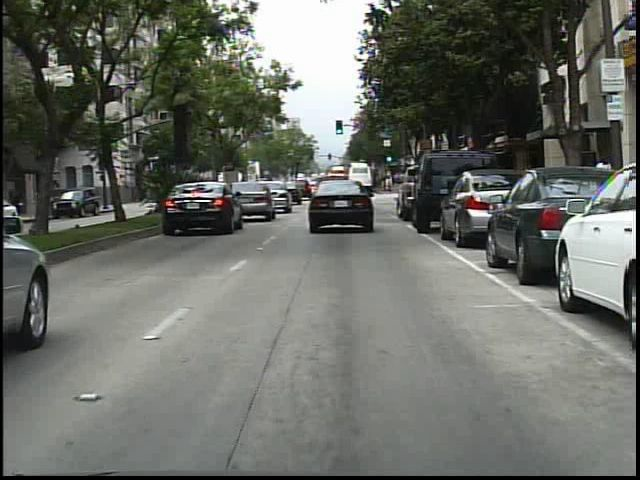person: (592, 152, 617, 226)
